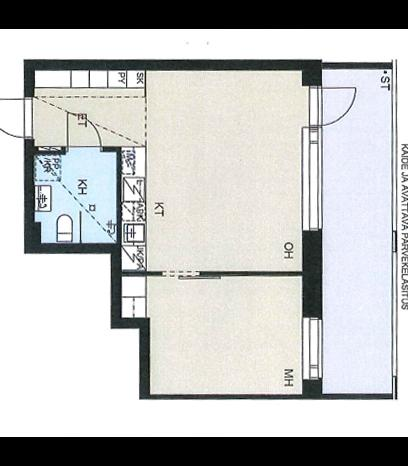bathroom: (32, 152, 119, 243)
door: (306, 84, 356, 128), (0, 96, 34, 140)
perimeter: (22, 58, 321, 400)
window: (296, 126, 326, 236), (298, 312, 324, 384)
